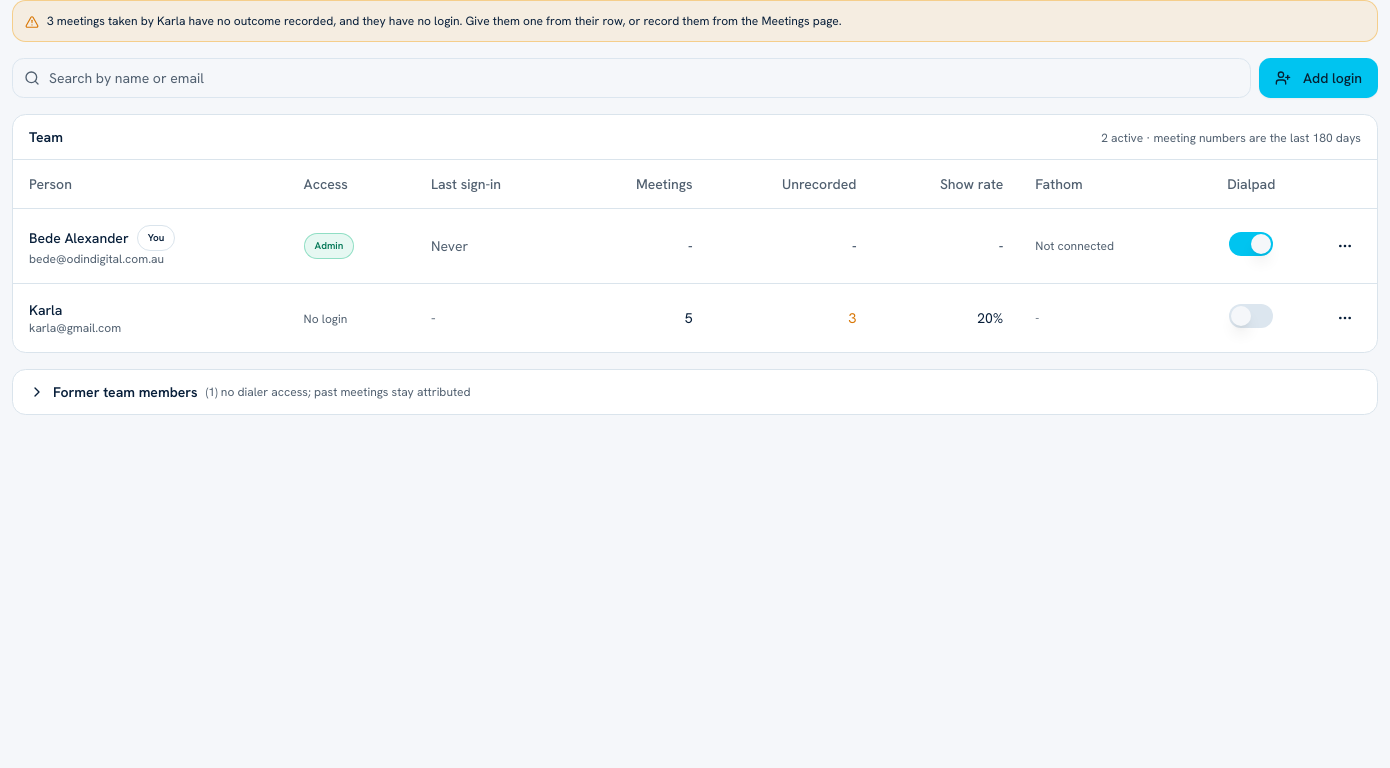
it: Team & settings > People › shows one table with access, attention notes, and former members tucked away
The image size is (1390, 768).
Check: the text "Admin" is shown, box [304, 232, 354, 258]
Check: the text "You" is shown, box [137, 224, 175, 250]
Click the button "Former team members" at (125,392), box [13, 370, 1377, 414]
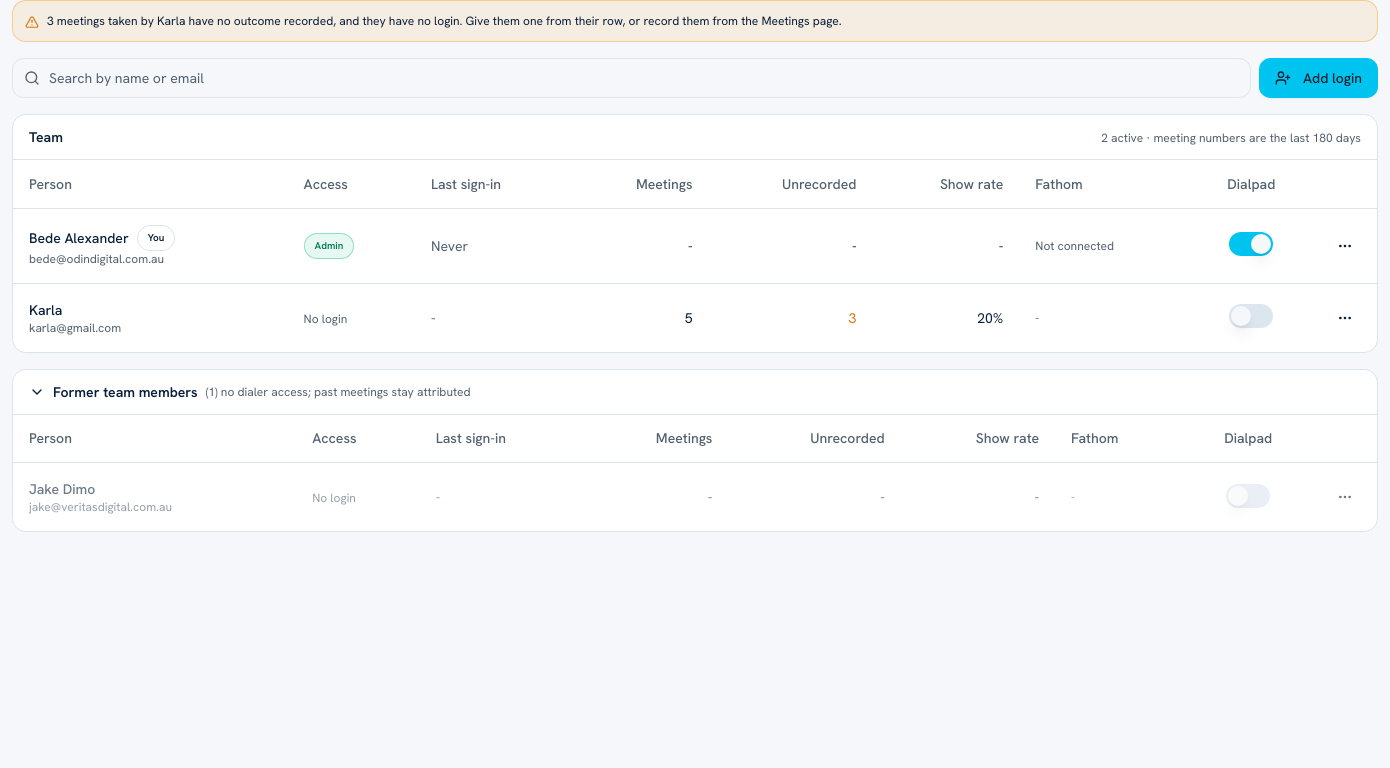
Check: the button "Add login" is shown, box [1259, 58, 1378, 98]
Check: the text "Jake Dimo" is shown, box [29, 479, 95, 499]
